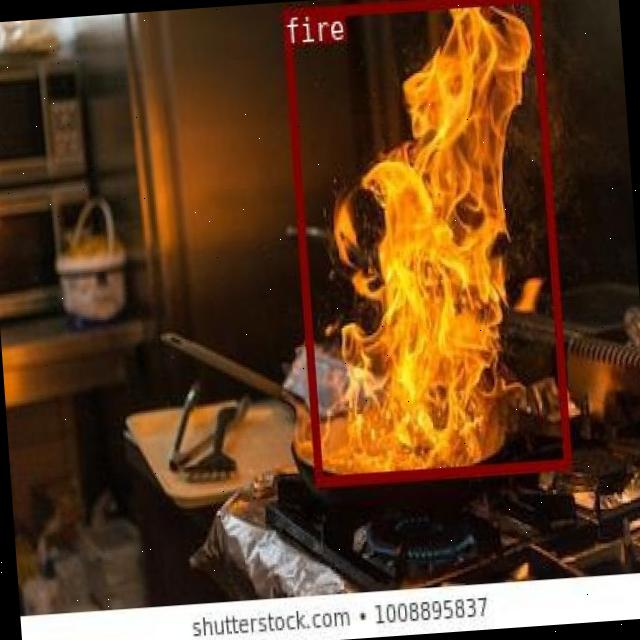fire: (280, 0, 570, 485)
